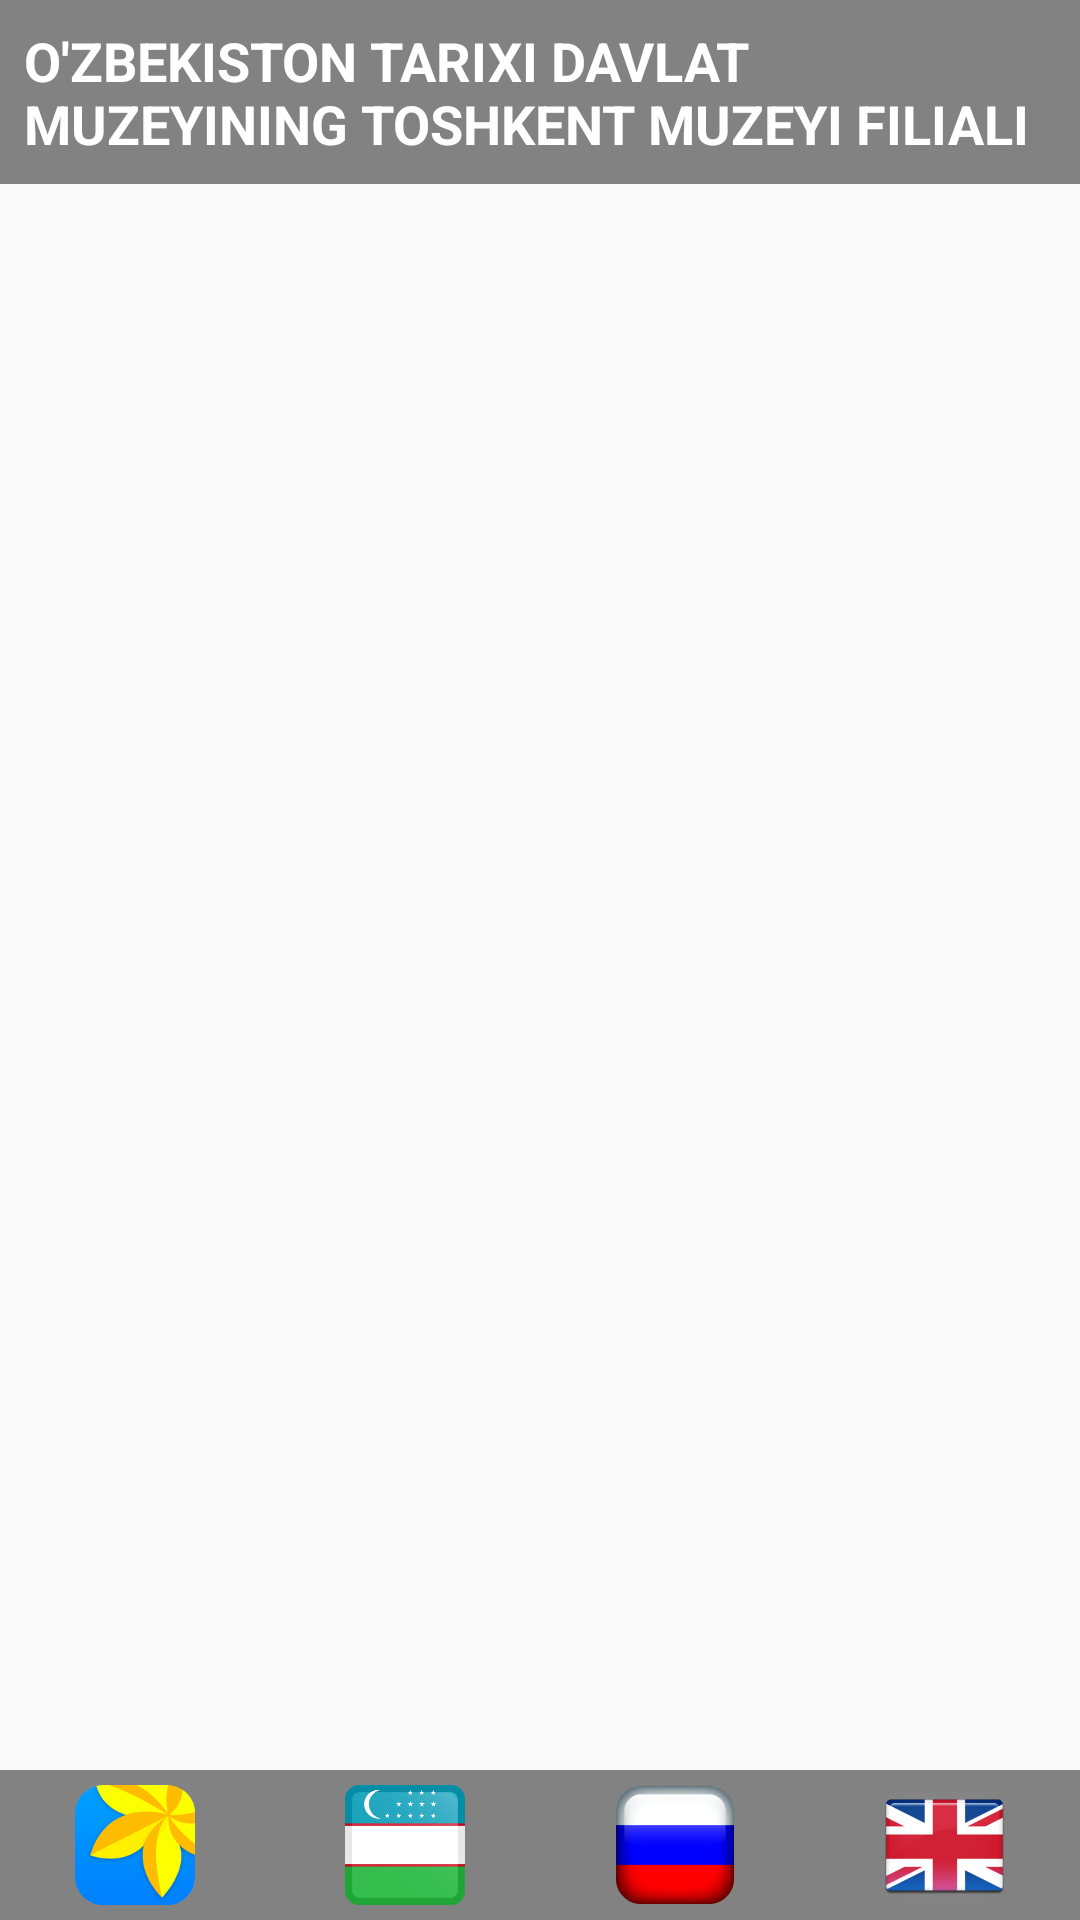

Icons on this 1080 x 1920 Android screen, each with its box as (x1, y1, x2, y2):
bottom en: (886, 1799, 1003, 1893)
bottom ru: (616, 1786, 734, 1904)
bottom uz: (345, 1785, 465, 1905)
